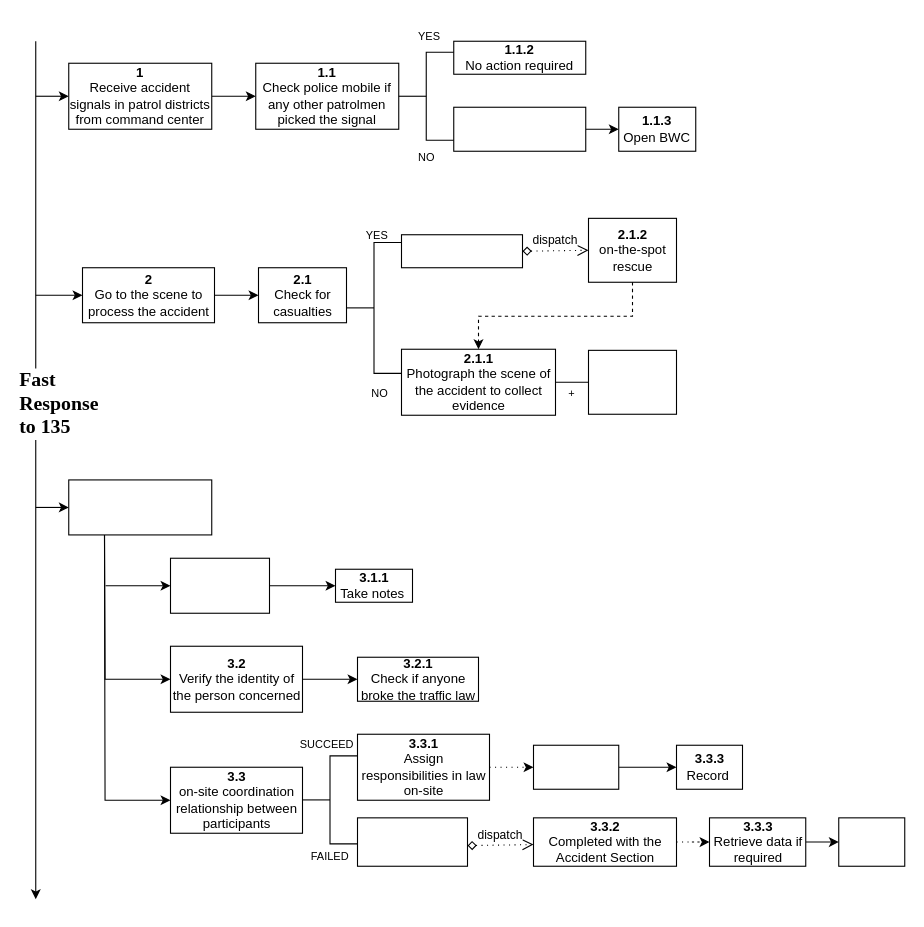
This 924x927 diagram has some shape labels left out. Each missing label, with the centre of its shape:
"1.1.2 Quickly select accident task" belongs at point 519,128.
"2.1.1 Contact ambulance" belongs at point 461,251.
"2.1.2 Guide other vehicle to the side" belongs at point 631,381.
"3 On-site communication with participants" belongs at point 140,507.
"3.1 Ask for accident information" belongs at point 219,585.
"3.3.1 Transfer the case" belongs at point 412,841.
"3.3.2 Retrieve data if required" belongs at point 575,766.
"3.3.4 Record" belongs at point 871,841.
